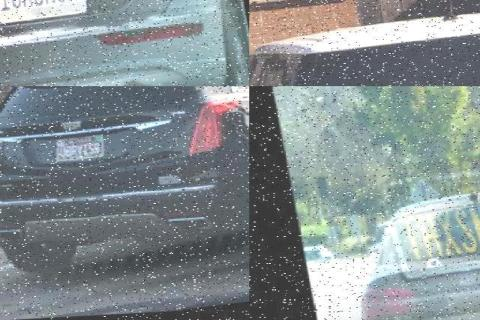LicensePlate: (0, 0, 86, 36), (53, 135, 101, 162)
